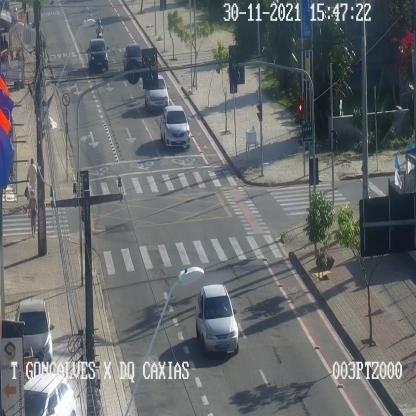car: (196, 284, 238, 352), (16, 299, 52, 370), (23, 372, 76, 416), (160, 105, 190, 147), (144, 74, 169, 110), (123, 43, 145, 74), (88, 38, 108, 69)
motorbike: (96, 20, 103, 38)
person: (26, 158, 37, 202), (28, 190, 37, 236)
